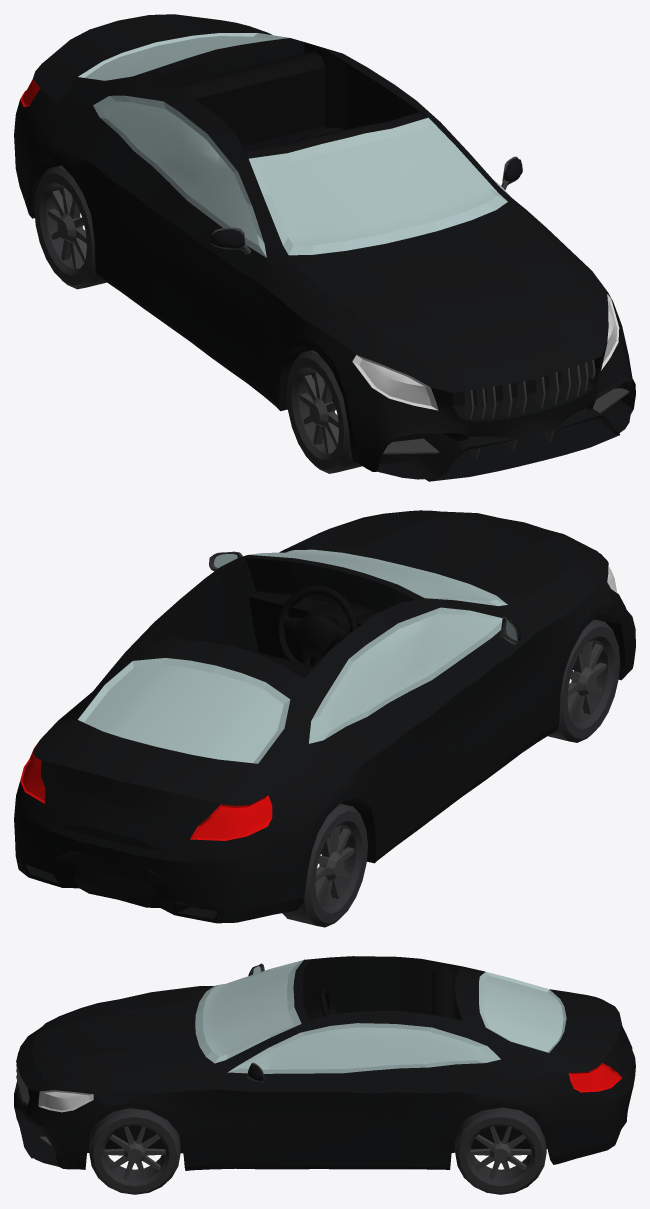
The model's file is Car_04_Mercedes_Benz_S63_AMD_Coupe.fbx.
The picture shows the model from 3 angles, top to bottom: view 1: azimuth 30°, elevation 25°; view 2: azimuth 150°, elevation 25°; view 3: azimuth 270°, elevation 25°; orthographic projection. The views are drawn at different scales.
Visible parts, largest first — view 1: Car_04_Mercedes_Benz_S63_AMD_Coupe_body, Car_04; view 2: Car_04_Mercedes_Benz_S63_AMD_Coupe_body, Car_04; view 3: Car_04_Mercedes_Benz_S63_AMD_Coupe_body, Car_04.
Part boxes in pixels (box(x1,y1,x2,y2)): Car_04_Mercedes_Benz_S63_AMD_Coupe_body: box(14, 14, 635, 481); Car_04: box(34, 165, 362, 473); Car_04_Mercedes_Benz_S63_AMD_Coupe_body: box(14, 510, 635, 923); Car_04: box(282, 619, 620, 927); Car_04_Mercedes_Benz_S63_AMD_Coupe_body: box(14, 956, 635, 1170); Car_04: box(89, 1107, 546, 1194).
Size of the model in its own units: 7.52 by 5.17 by 17.96.
